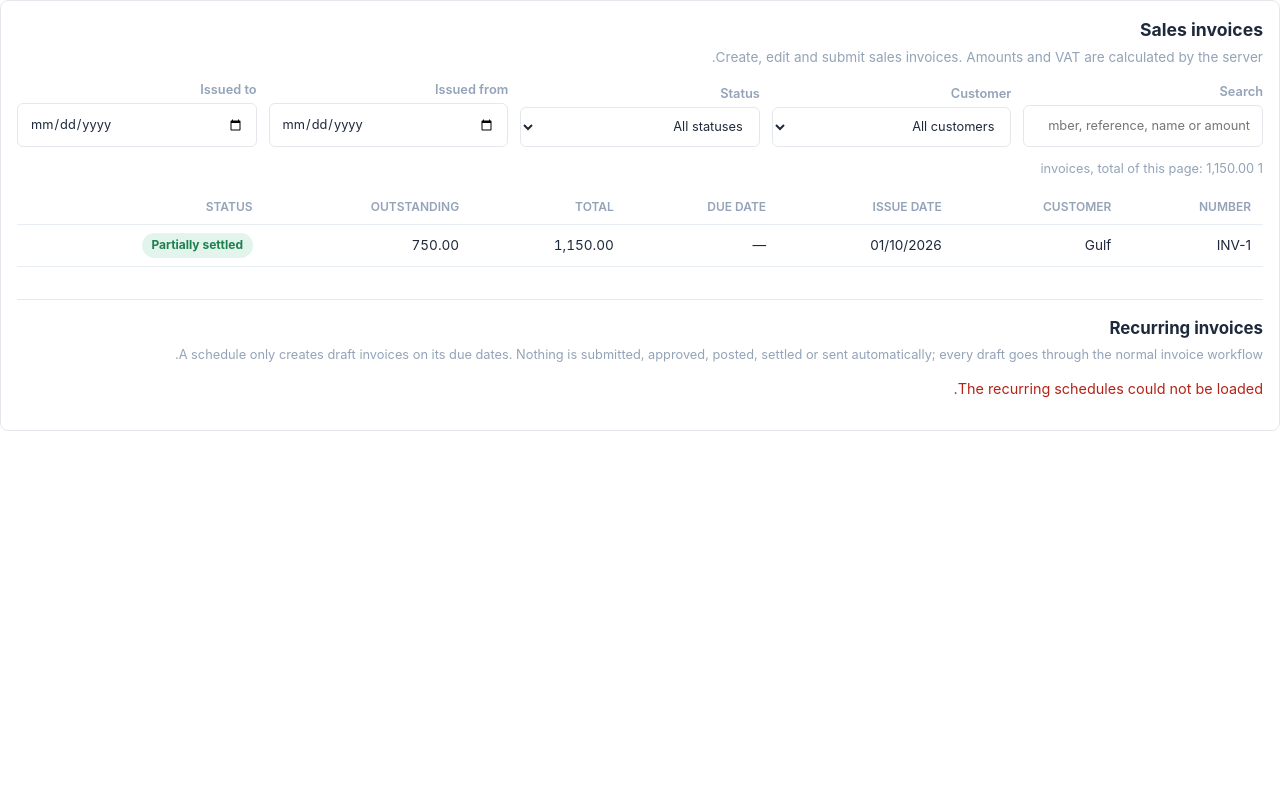
Test: Invoice side: Record collection / Record payment › disables the action and explains why: journal not posted
The image size is (1280, 800).
Click the text "INV-1" at (1193, 245), box [1123,225,1263,266]
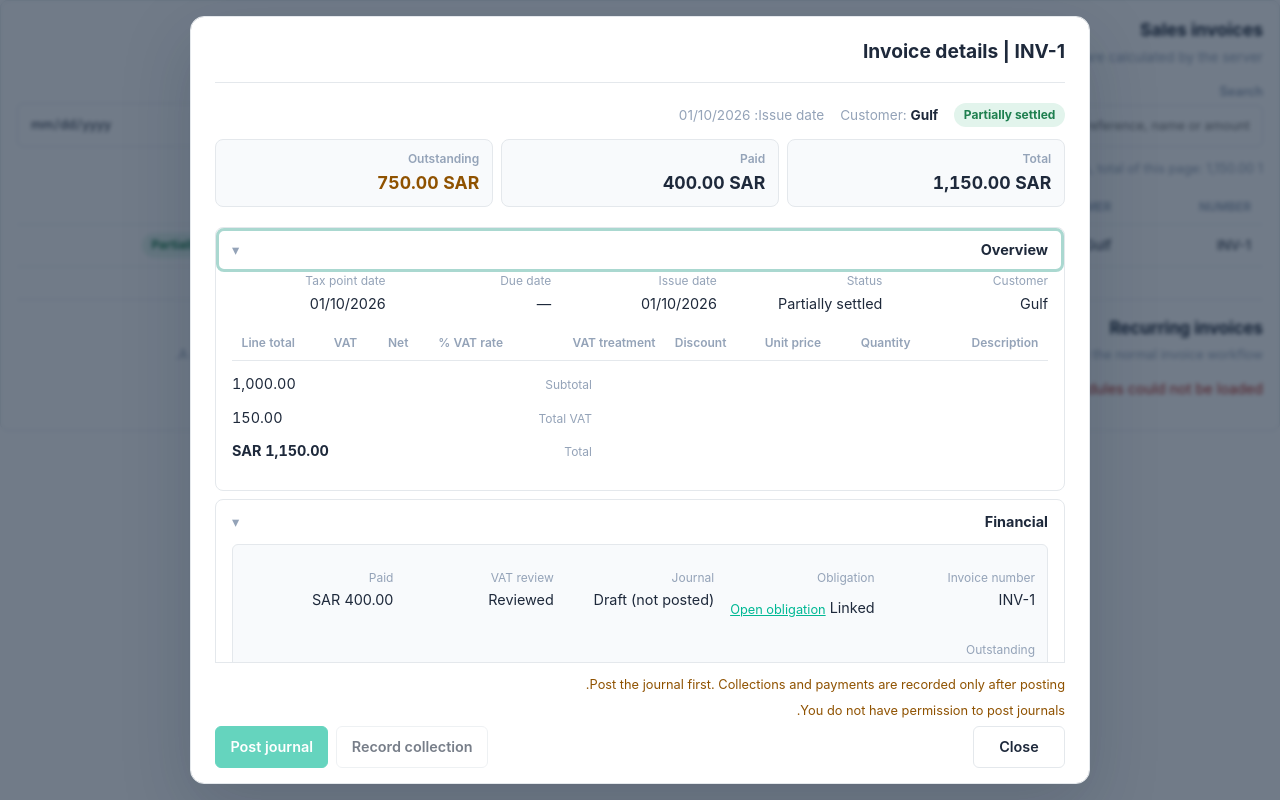
expect the text with test id "settle-note" shows "Post the journal first": met, box [586,677,1065,692]
expect the button "Record collection" is disabled: met, box [336,726,488,767]
